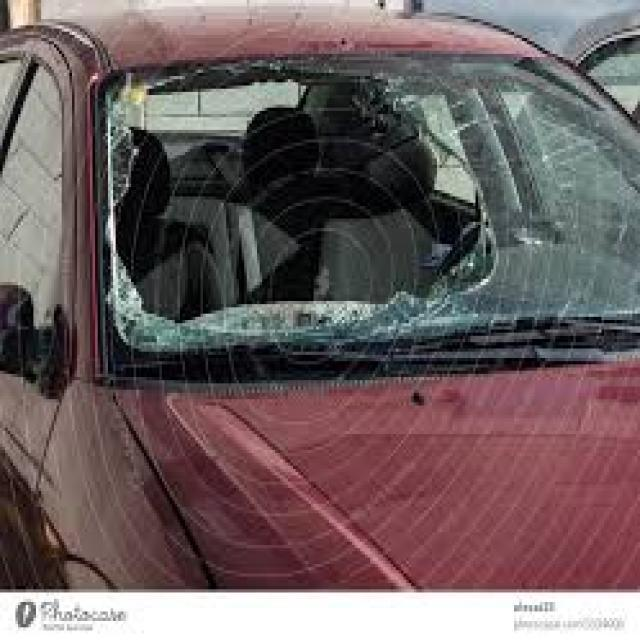damaged-windscreen: (96, 58, 640, 351)
